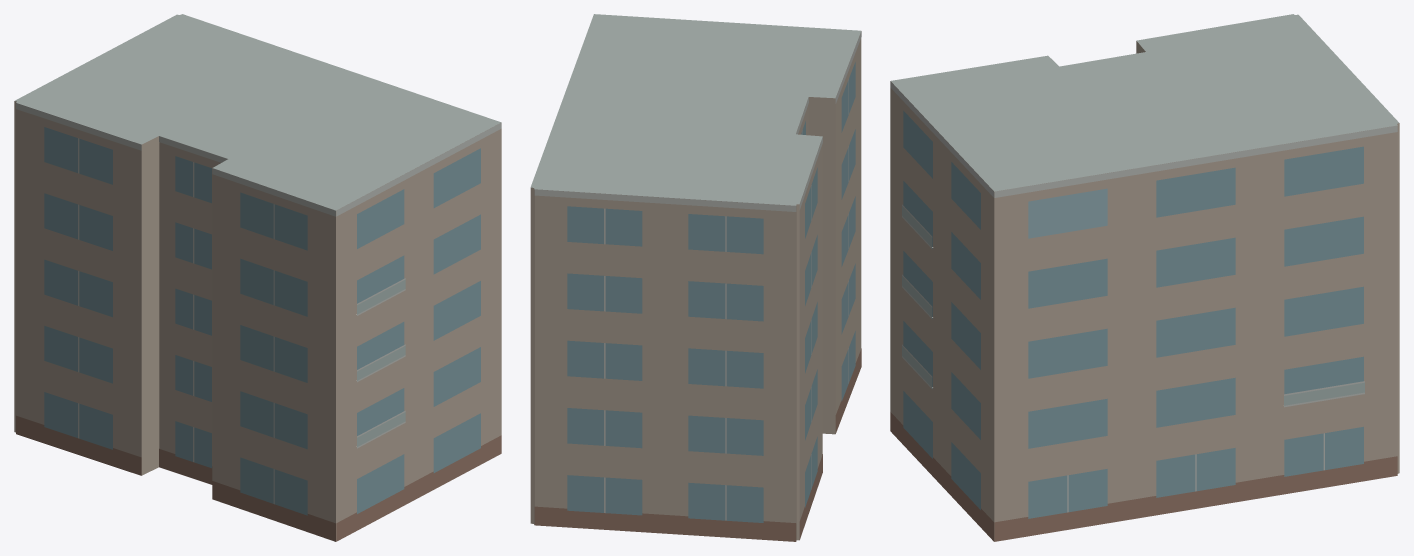
The model's file is survey-upis-32888483.glb.
The picture shows the model from 3 angles, left to right: view 1: azimuth 30°, elevation 25°; view 2: azimuth 150°, elevation 25°; view 3: azimuth 270°, elevation 25°; orthographic projection. The views are drawn at different scales.
Visible parts, largest first — view 1: survey-upis-32888483.tmp; view 2: survey-upis-32888483.tmp; view 3: survey-upis-32888483.tmp.
Part boxes in pixels (box(x1,y1,x2,y2)): survey-upis-32888483.tmp: box(14, 14, 501, 541); survey-upis-32888483.tmp: box(530, 14, 861, 541); survey-upis-32888483.tmp: box(890, 14, 1399, 541).
Bounding box in the file's own units: 14.26 × 13.1 × 17.27.
